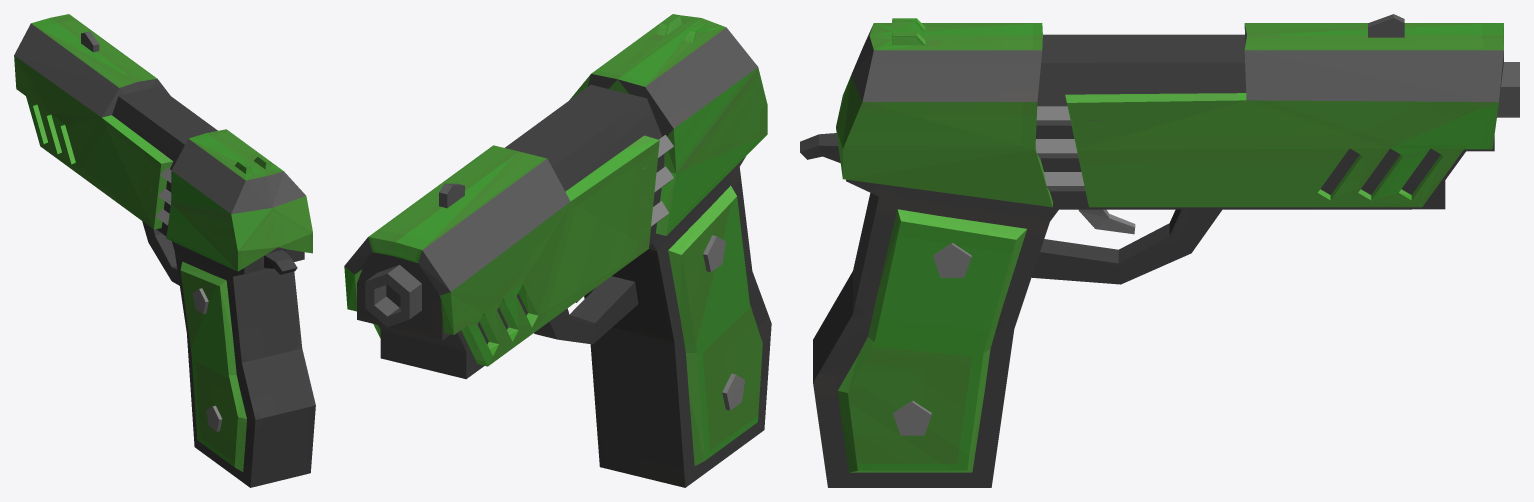
The model's file is pistol_1.glb.
3 views of the same model, side by side, from view 1: azimuth 30°, elevation 25°; view 2: azimuth 150°, elevation 25°; view 3: azimuth 270°, elevation 25° (orthographic). The views are drawn at different scales.
Visible parts, largest first — view 1: pistol_1; view 2: pistol_1; view 3: pistol_1.
Boxes of the visible parts, <box> form: pistol_1: <box>14,14,315,487</box>; pistol_1: <box>344,14,771,487</box>; pistol_1: <box>800,14,1519,487</box>.
Size of the model in its own units: 0.0607 by 0.2298 by 0.331.
Materials: 1 (1 with a texture image).
